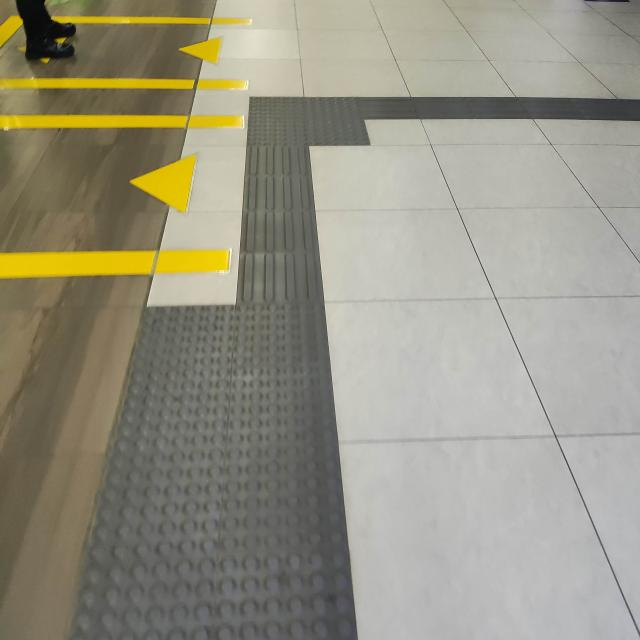kanan: (214, 80, 456, 160)
